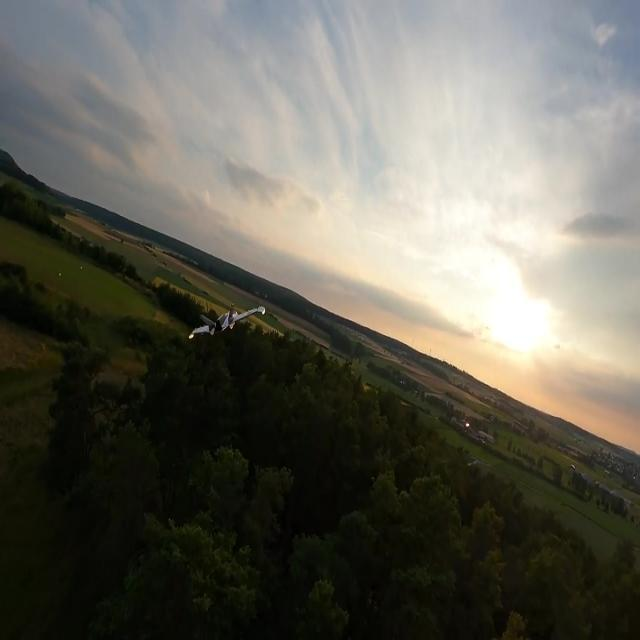iha: (213, 288, 236, 352)
